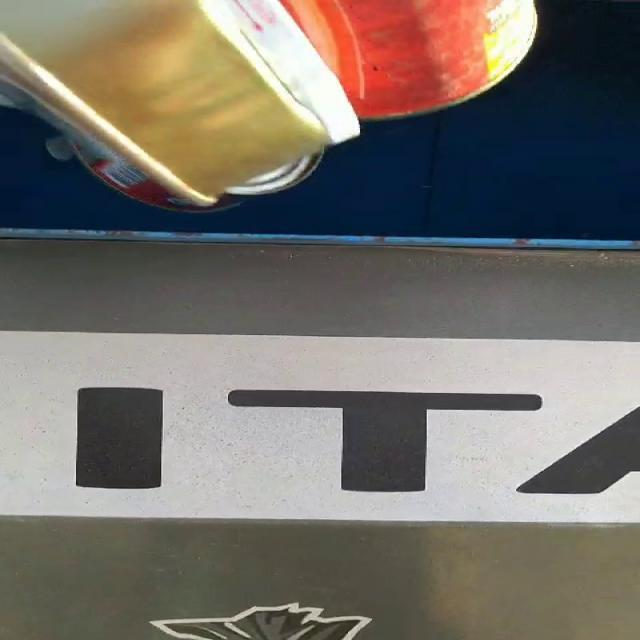Bin: (0, 0, 639, 640)
Metal: (0, 0, 537, 210)
